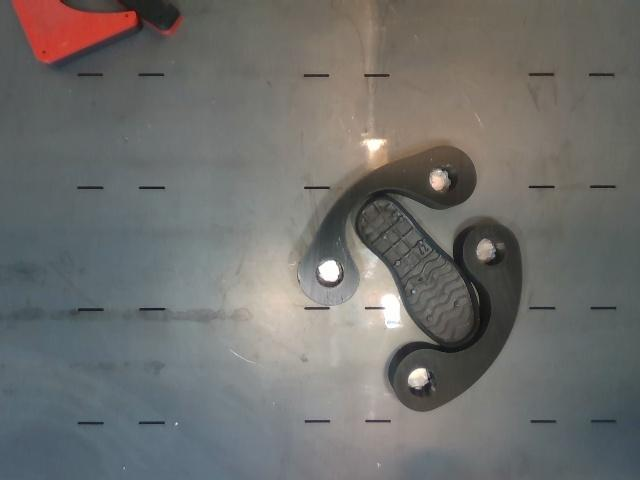shoes: (356, 196, 480, 347)
